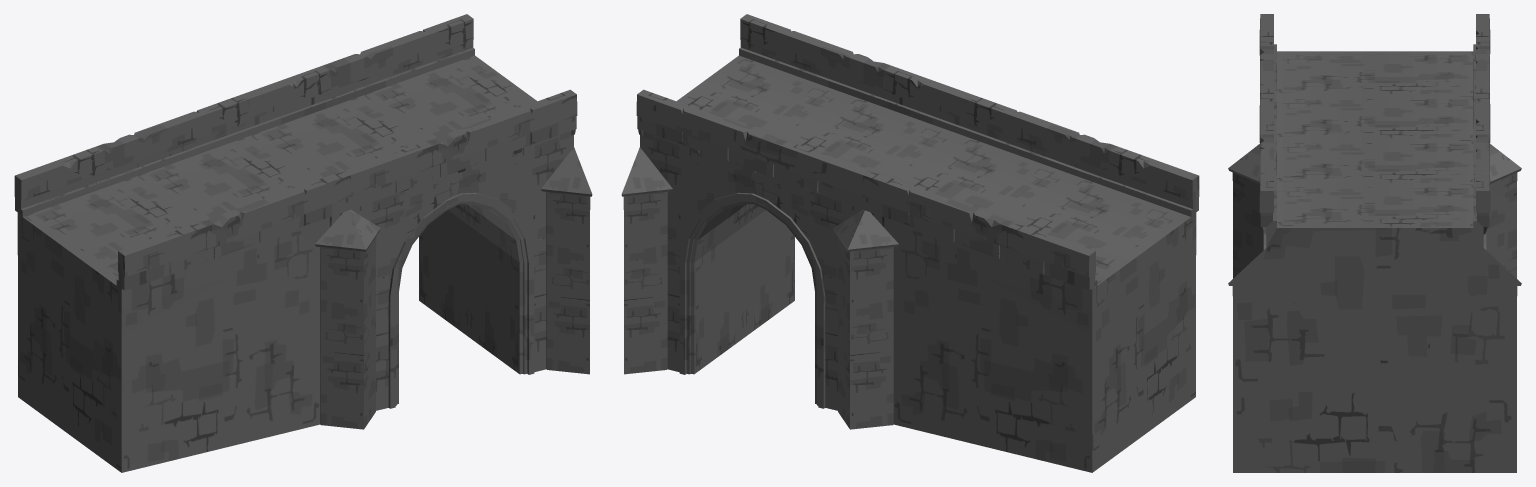
File: SM_Env_Bridge_Ramp.fbx
3 views of the same model, side by side, from view 1: azimuth 30°, elevation 25°; view 2: azimuth 150°, elevation 25°; view 3: azimuth 270°, elevation 25° (orthographic). The views are drawn at different scales.
Parts seen in each view (by area): view 1: SM_Env_Bridge_Ramp, SM_Env_City_Road; view 2: SM_Env_Bridge_Ramp, SM_Env_City_Road; view 3: SM_Env_Bridge_Ramp, SM_Env_City_Road.
Part boxes in pixels (<box>): SM_Env_Bridge_Ramp: <box>14,14,592,472</box>; SM_Env_City_Road: <box>23,55,536,285</box>; SM_Env_Bridge_Ramp: <box>621,14,1199,472</box>; SM_Env_City_Road: <box>677,55,1190,285</box>; SM_Env_Bridge_Ramp: <box>1228,14,1521,472</box>; SM_Env_City_Road: <box>1277,51,1473,227</box>.
Bounding box in the file's own units: 12.71 × 7.26 × 6.86.
Materials: 1 (1 with a texture image).
